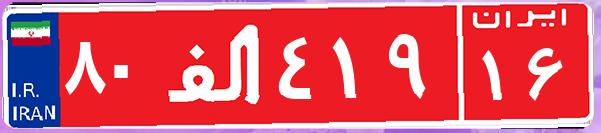0: (110, 28, 158, 105)
1: (330, 28, 385, 110), (475, 38, 525, 113)
4: (273, 28, 330, 110)
6: (525, 38, 570, 115)
8: (57, 26, 110, 107)
9: (385, 28, 445, 110)
الف: (158, 15, 273, 115)
